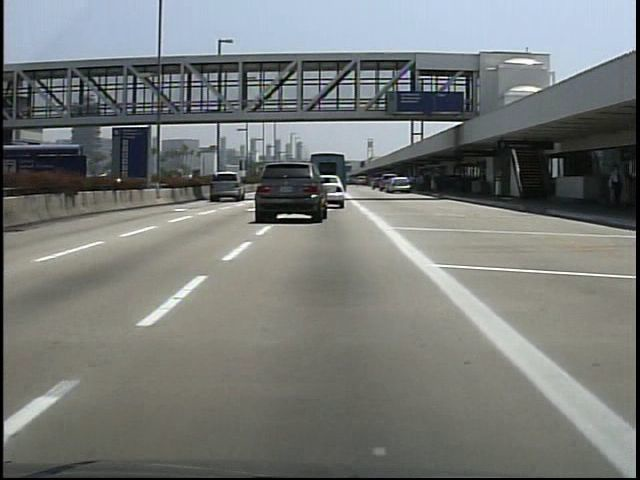person: (603, 165, 624, 212)
